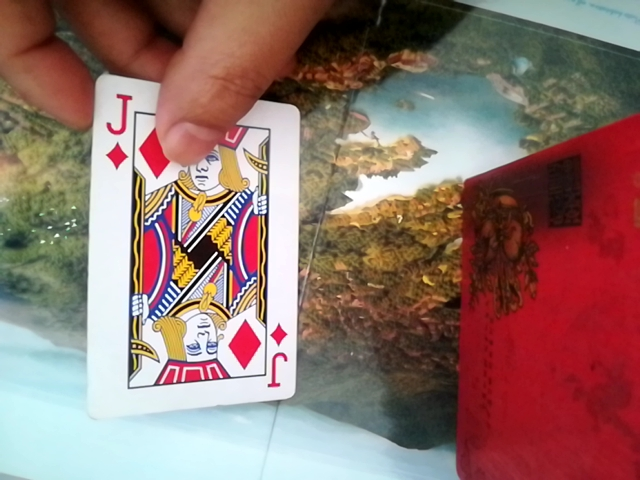fk j: (83, 82, 304, 431)
